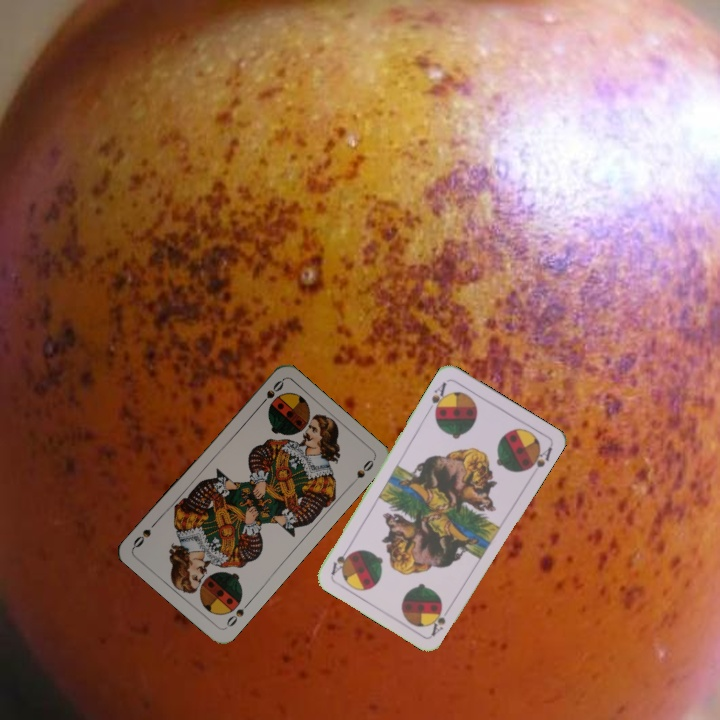SA: (427, 601, 454, 638), (427, 378, 450, 417)
SO: (255, 376, 287, 410), (221, 598, 253, 631)
